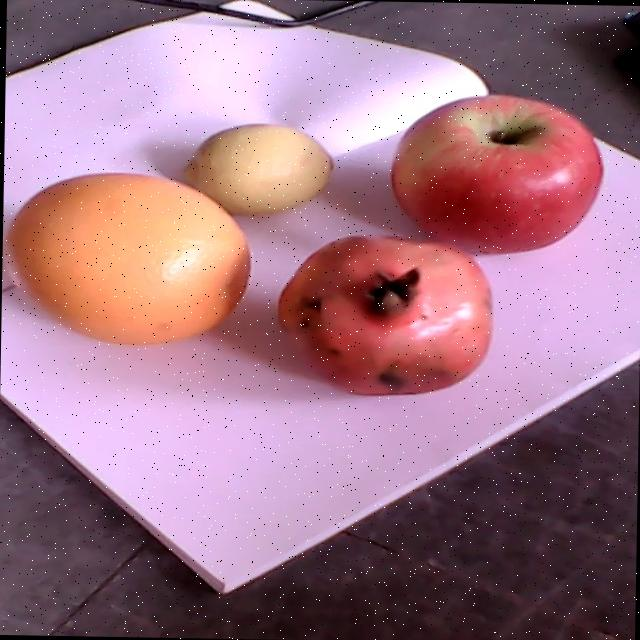apple: (389, 93, 602, 254)
lemon: (179, 123, 334, 213)
orange: (2, 173, 251, 346)
pomegranate: (276, 233, 492, 396)
